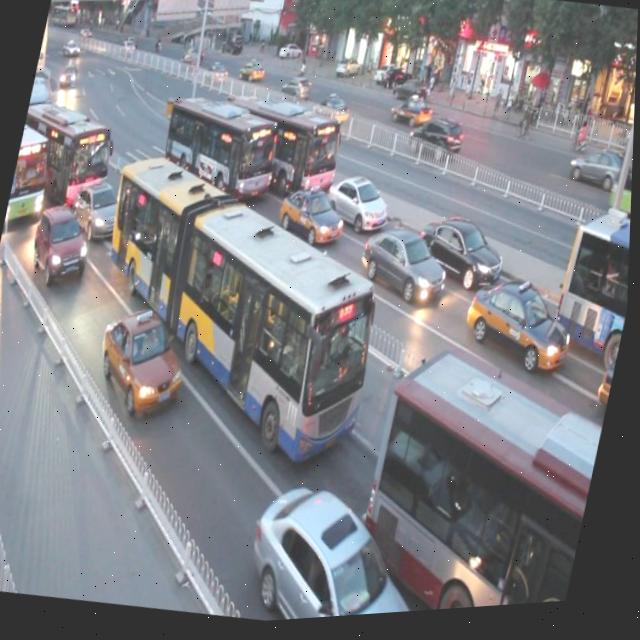car: (241, 467, 448, 626), (459, 266, 585, 388), (91, 300, 197, 426), (355, 214, 457, 314), (416, 205, 515, 297), (28, 199, 98, 290), (273, 173, 352, 253), (320, 161, 397, 241), (68, 176, 132, 248)
van: (67, 129, 413, 482), (346, 339, 618, 621), (152, 77, 289, 216), (215, 78, 353, 208), (550, 210, 633, 372), (13, 85, 123, 205), (4, 118, 62, 237)
